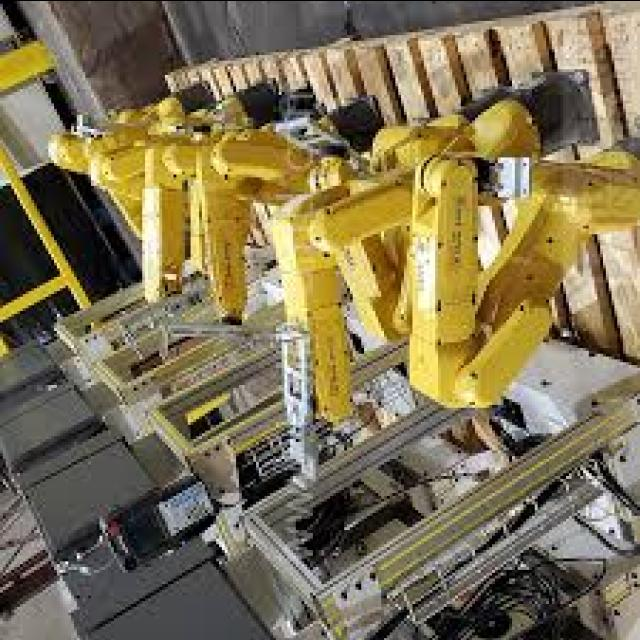Robotic-arm: (267, 80, 557, 442), (402, 136, 638, 406), (190, 127, 296, 345), (47, 88, 169, 214), (134, 128, 198, 304)
